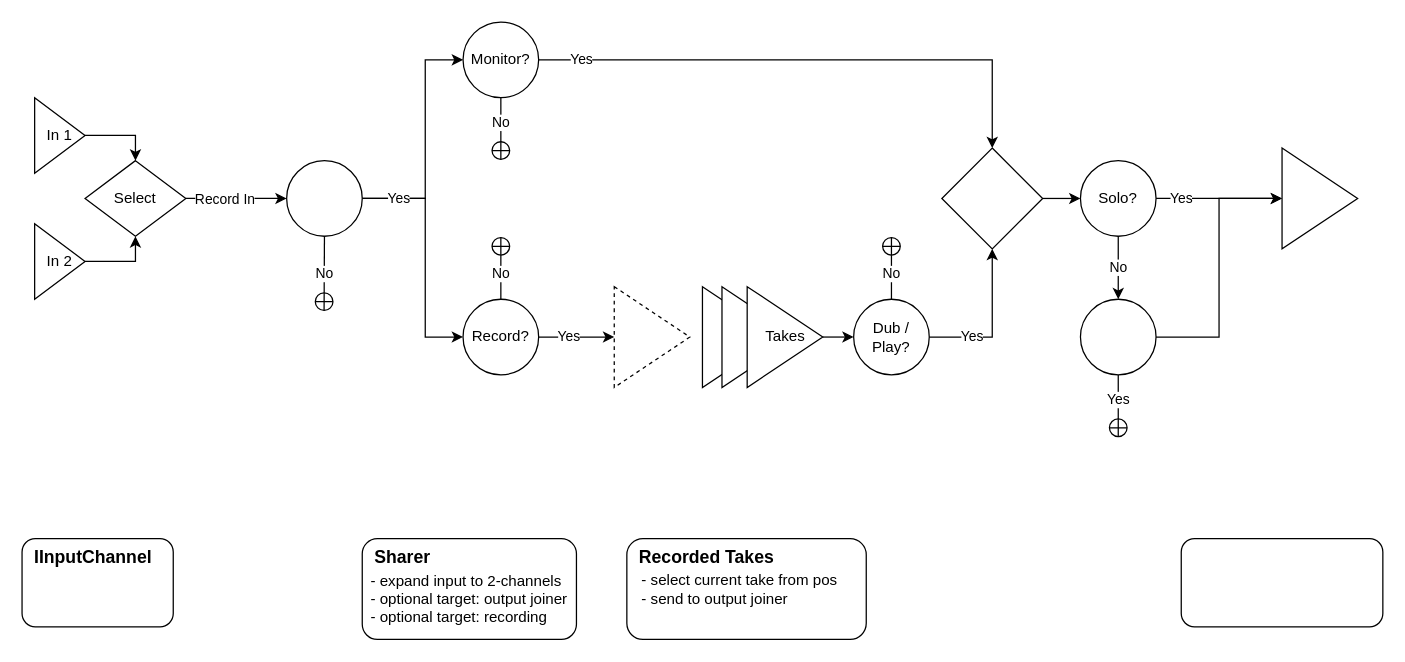
Some shapes in this 1405 by 662 pixel diagram are drawn without their labels. Here are the shapes that lost their labels. From the top down, the centre of each, then its label:
At point (323, 197): "Hot?".
At point (992, 198): "Mix".
At point (1319, 198): "Out".
At point (651, 336): "New".
At point (1117, 336): "Mute?".
At point (1281, 582): "IOutputChannelPair".
